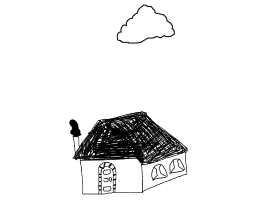bottom_placed_house: (2, 6, 260, 207)
clouds: (113, 1, 178, 49)
door: (95, 160, 121, 197)
open_window: (148, 162, 169, 181), (168, 157, 186, 175)
shaded_roof: (55, 105, 194, 163)
small_house: (1, 1, 260, 207)
smoking_chimney: (63, 114, 88, 154)
wall: (78, 150, 147, 200)
